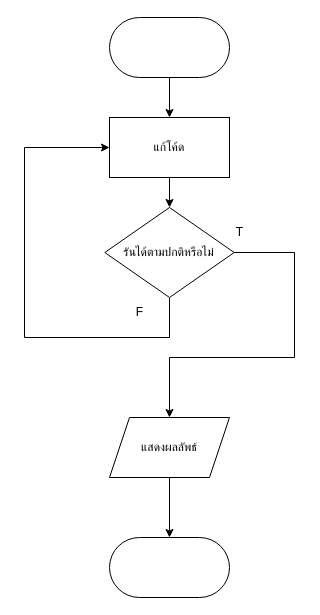
This 320x615 diagram has some shape labels left out. The centre of each missing label's shape, as x and y in pixels:
"END" belongs at pixel 169 567.
"Start" belongs at pixel 169 47.
